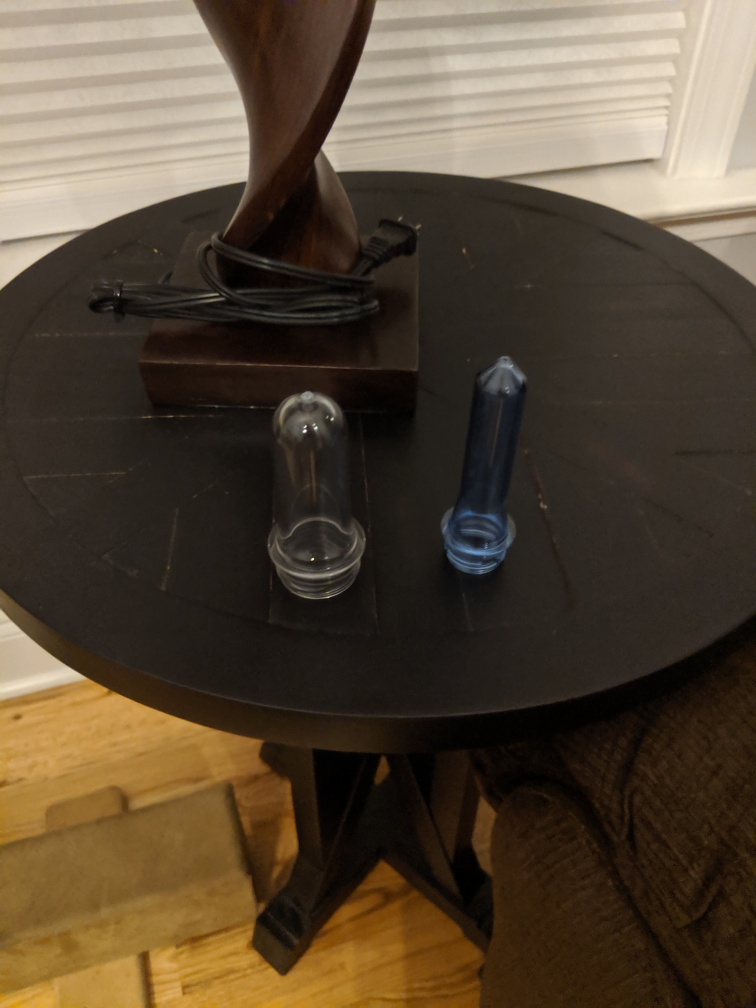preform: (260, 385, 373, 605), (437, 346, 530, 582)
